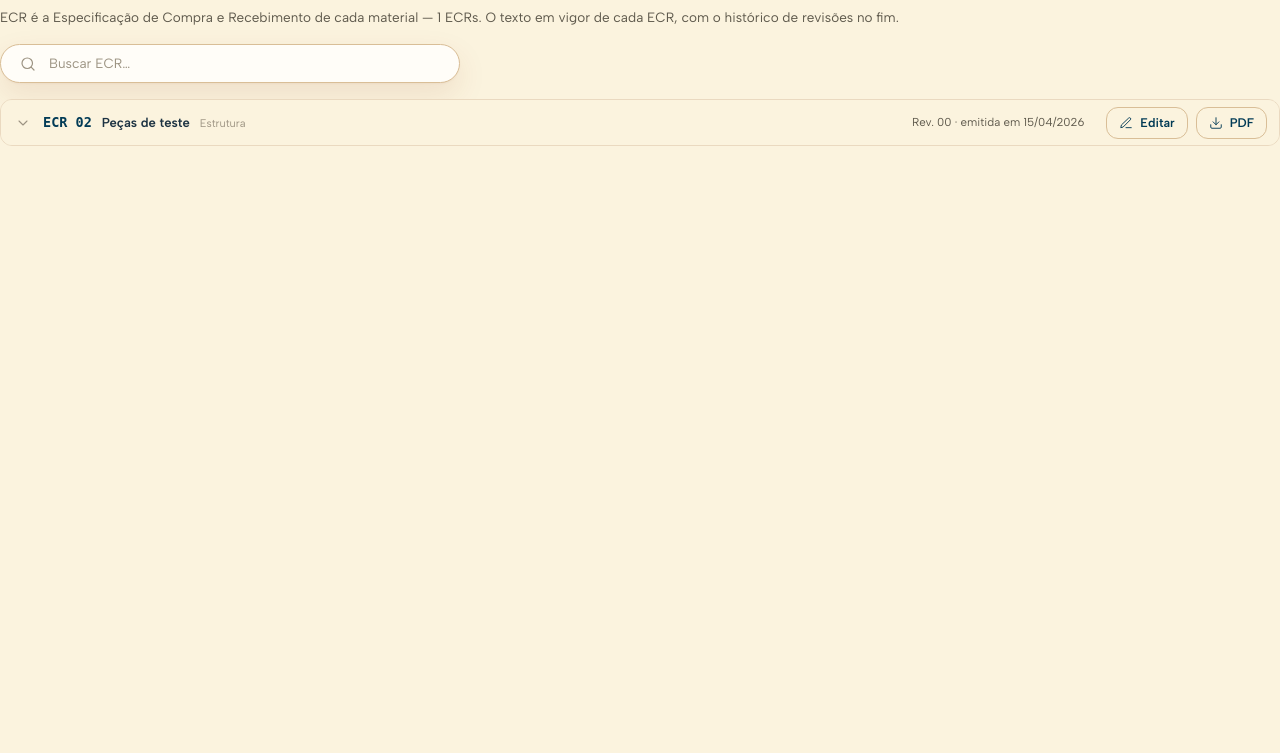
Test: D596 §3 (a proposta do §6) — a tela confere antes de mandar e aponta a linha › tirar a linha também resolve
Click the button with aria-label "Editar a ECR 02". click: (1147, 123)
box: x1=1106 y1=107 x2=1188 y2=139
(page scrolled)
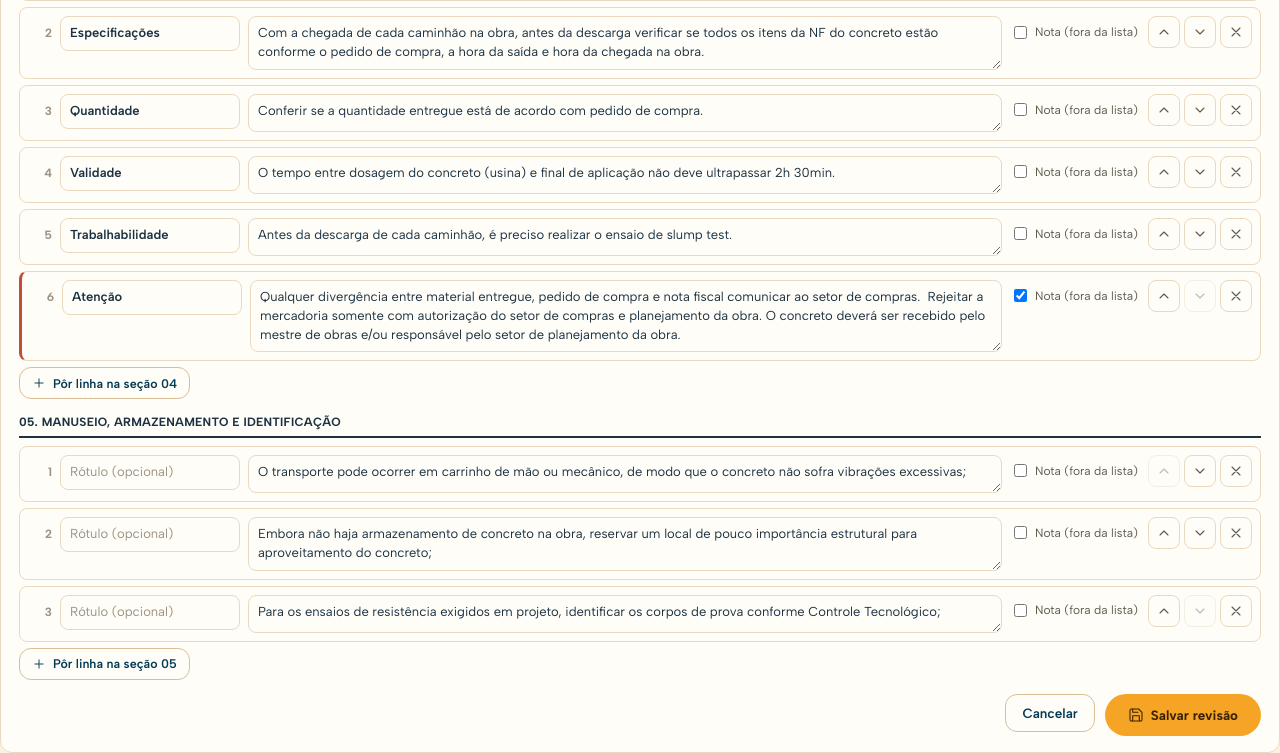
Click the button "Salvar revisão". click: (1183, 715)
box: x1=1105 y1=694 x2=1261 y2=736
(page scrolled)
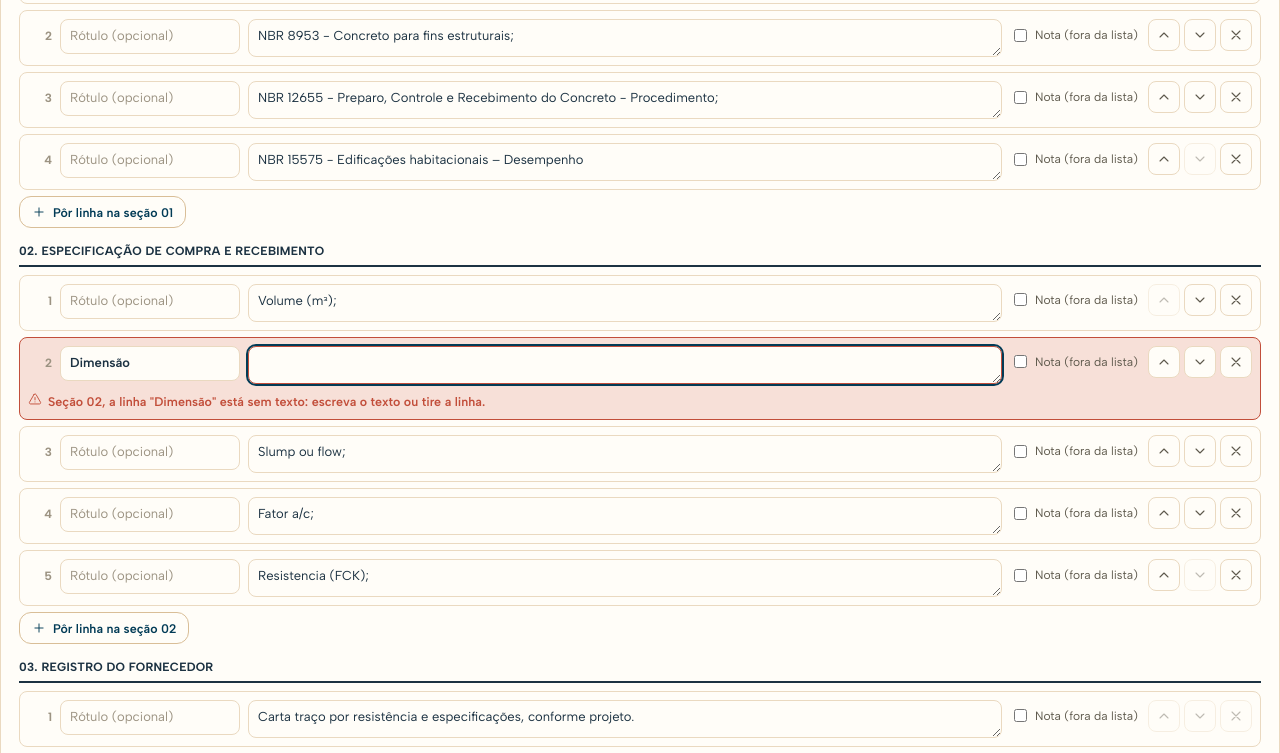
Click the button named "Tirar a linha 2 da seção 02". click: (1236, 362)
box: x1=1220 y1=346 x2=1252 y2=378
(page scrolled)
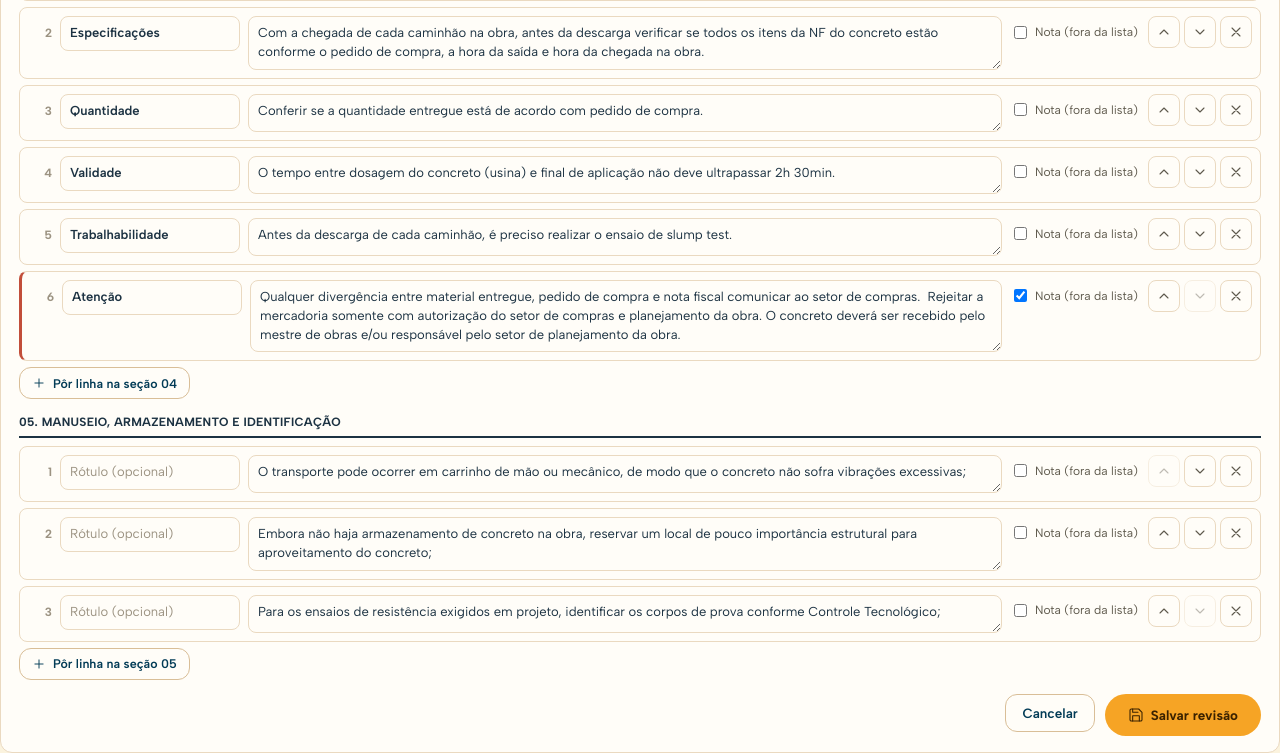
Click the button "Salvar revisão". click: (1183, 715)
box: x1=1105 y1=694 x2=1261 y2=736
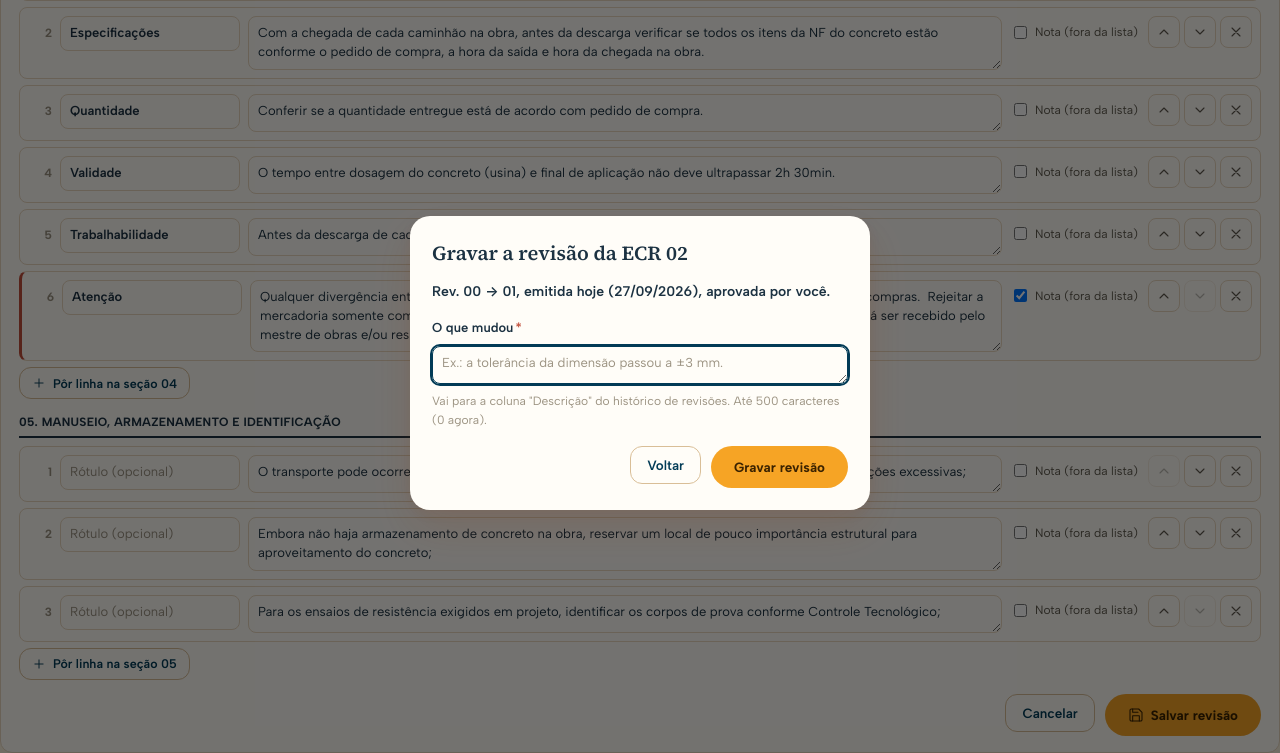
expect the element that starts with "Gravar a revisão da" is shown: met, box x1=410 y1=216 x2=870 y2=510
